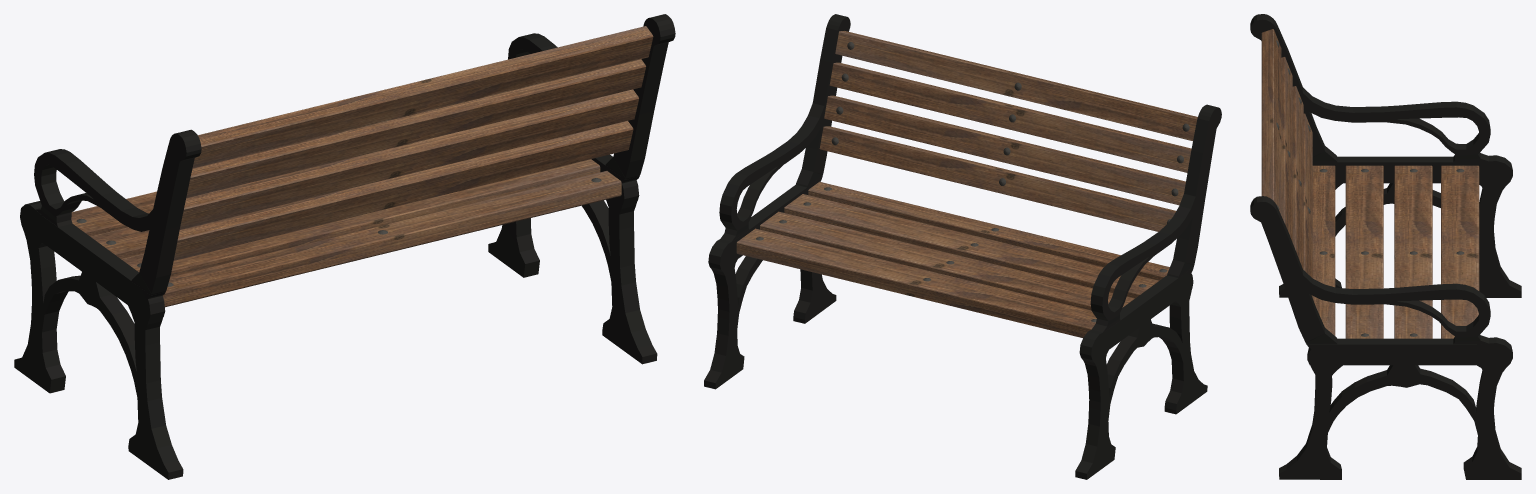
Rendered from bench.obj.
3 renders of one model, left to right at view 1: azimuth 30°, elevation 25°; view 2: azimuth 150°, elevation 25°; view 3: azimuth 270°, elevation 25°, orthographic. The views are drawn at different scales.
Visible parts, largest first — view 1: Cube.005; view 2: Cube.005; view 3: Cube.005.
Boxes of the visible parts, x1,y1,x2,y2 form: Cube.005: [14, 14, 675, 479]; Cube.005: [704, 14, 1221, 479]; Cube.005: [1250, 14, 1521, 479].
Bounding box in the file's own units: 65.08 × 44.95 × 39.73.
